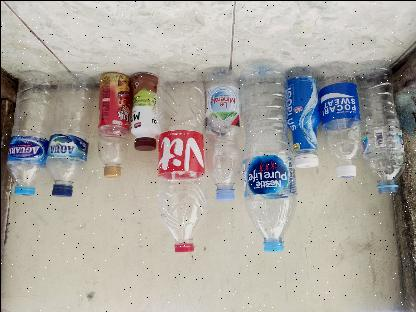Plastic Bottle: (238, 60, 298, 252), (156, 62, 206, 252), (356, 64, 406, 194), (6, 70, 56, 196), (44, 73, 93, 197), (317, 62, 361, 178), (204, 68, 242, 200), (284, 66, 320, 168), (97, 71, 131, 177), (130, 72, 158, 150)
